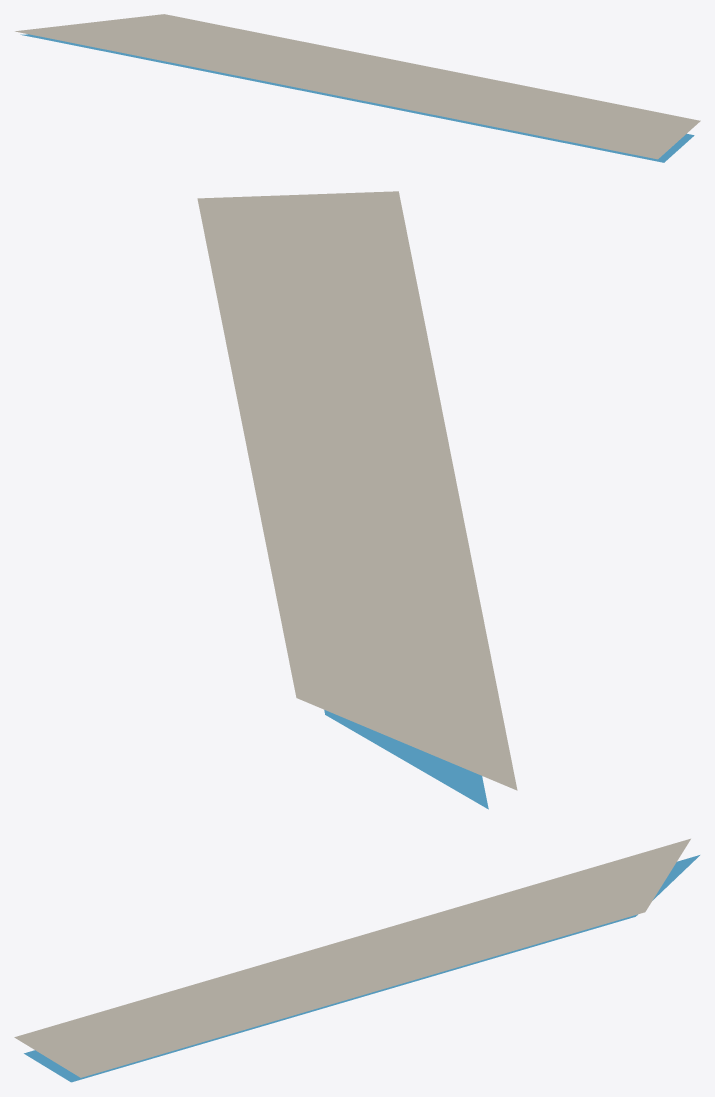
3 renders of one model, top to bottom at view 1: azimuth 30°, elevation 25°; view 2: azimuth 150°, elevation 25°; view 3: azimuth 270°, elevation 25°, orthographic. The views are drawn at different scales.
Parts seen in each view (by area): view 1: estructura_terreno, estructura_agua; view 2: estructura_terreno, estructura_agua; view 3: estructura_terreno, estructura_agua.
Boxes of the visible parts, box(x1,y1,x2,y2) form: estructura_terreno: box(15, 14, 700, 159); estructura_agua: box(20, 34, 694, 162); estructura_terreno: box(197, 191, 517, 790); estructura_agua: box(324, 710, 488, 809); estructura_terreno: box(14, 838, 690, 1077); estructura_agua: box(24, 855, 699, 1082).
Bounding box in the file's own units: 20.33 × 0.41 × 24.64.
